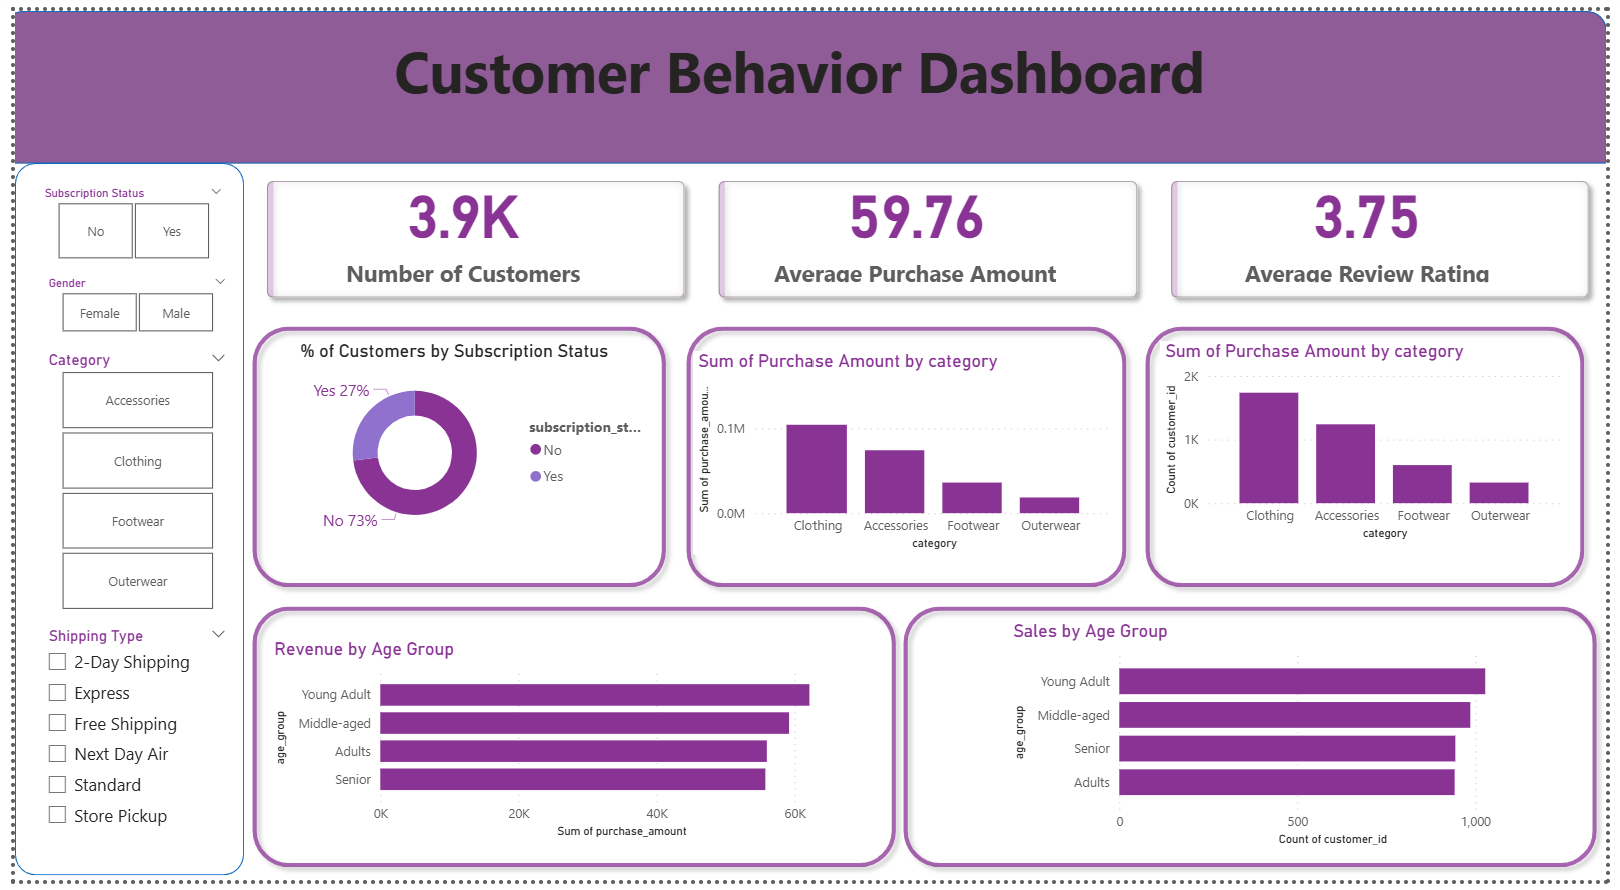

This screenshot's page, from the dashboard's own definition file:
{"tool":"powerbi","page":{"name":"Page 1","canvas":[1500,820],"ordinal":0},"visuals":[{"type":"cardVisual","fields":{"Data":["Sheet1.Number of Customers","Sheet1.Average Purchase Amount","Sheet1.Average Review Rating"]},"box":[216,144,1272,144],"z":0},{"type":"shape","box":[-12,0,1512,144],"z":1000},{"type":"textbox","box":[272,32,800,112],"z":2000},{"type":"shape","box":[216,288,408,264],"z":3000},{"type":"donutChart","title":"% of Customers by Subscription Status","fields":{"Category":["Sheet1.subscription_status"],"Y":["Sheet1.Number of Customers"]},"box":[264,312,336,192],"z":4000},{"type":"shape","box":[624,288,432,264],"z":5000},{"type":"shape","box":[1056,288,432,264],"z":6000},{"type":"clusteredColumnChart","title":"Sum of Purchase Amount by category","fields":{"Category":["Sheet1.category"],"Y":["Sum(Sheet1.purchase_amount)"]},"box":[648,312,384,192],"z":7000},{"type":"clusteredColumnChart","title":"Sum of Purchase Amount by category","fields":{"Category":["Sheet1.category"],"Y":["CountNonNull(Sheet1.customer_id)"]},"box":[1080,312,384,192],"z":8000},{"type":"shape","box":[0,144,216,672],"z":9000},{"type":"slicer","fields":{"Values":["Sheet1.category"]},"box":[16,320,192,256],"z":10000},{"type":"slicer","fields":{"Values":["Sheet1.subscription_status"]},"box":[16,144,192,80],"z":11000},{"type":"slicer","fields":{"Values":["Sheet1.gender"]},"box":[16,224,192,64],"z":12000},{"type":"slicer","fields":{"Values":["Sheet1.shipping_type"]},"box":[16,576,192,224],"z":13000},{"type":"clusteredBarChart","title":"Revenue by Age Group","fields":{"Y":["Sum(Sheet1.purchase_amount)"],"Category":["Sheet1.age_group"]},"box":[264,576,576,192],"z":14000},{"type":"shape","box":[828,552,672,264],"z":15000},{"type":"shape","box":[216,552,624,264],"z":16000},{"type":"clusteredBarChart","title":"Sales by Age Group","fields":{"Category":["Sheet1.age_group"],"Y":["CountNonNull(Sheet1.customer_id)"]},"box":[936,576,528,216],"z":17000}]}

Visuals, with their boxes in screenshot pixels (x1, y1, x2, y2), scaled from the page's 1500x820 canvas onto the 1620x890 screenshot:
cardVisual - Sheet1.Number of Customers x Sheet1.Average Purchase Amount: rect(233, 156, 1607, 313)
shape: rect(0, 0, 1619, 156)
textbox: rect(294, 35, 1158, 156)
shape: rect(233, 313, 674, 599)
"% of Customers by Subscription Status" donutChart: rect(285, 339, 648, 547)
shape: rect(674, 313, 1140, 599)
shape: rect(1140, 313, 1607, 599)
"Sum of Purchase Amount by category" clusteredColumnChart: rect(700, 339, 1115, 547)
"Sum of Purchase Amount by category" clusteredColumnChart: rect(1166, 339, 1581, 547)
shape: rect(0, 156, 233, 886)
slicer - Sheet1.category: rect(17, 347, 225, 625)
slicer - Sheet1.subscription_status: rect(17, 156, 225, 243)
slicer - Sheet1.gender: rect(17, 243, 225, 313)
slicer - Sheet1.shipping_type: rect(17, 625, 225, 868)
"Revenue by Age Group" clusteredBarChart: rect(285, 625, 907, 834)
shape: rect(894, 599, 1619, 886)
shape: rect(233, 599, 907, 886)
"Sales by Age Group" clusteredBarChart: rect(1011, 625, 1581, 860)
